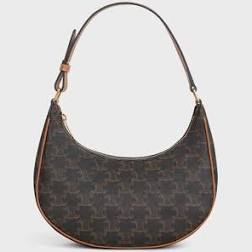Gucci: (33, 1, 225, 251), (57, 162, 203, 230)
